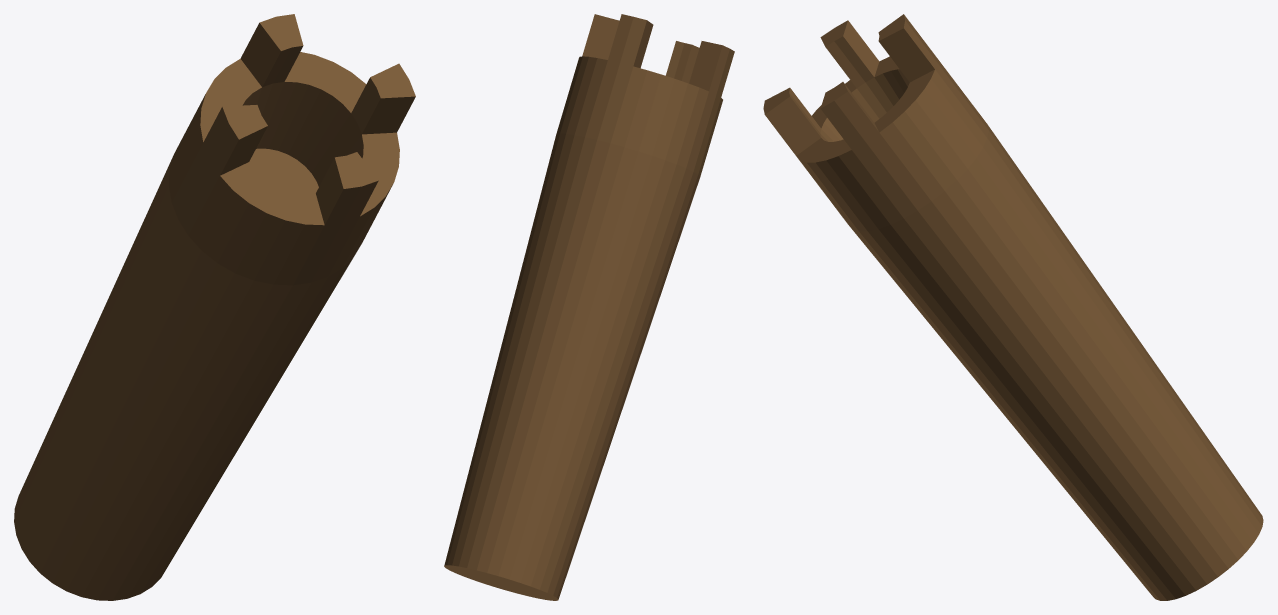
Rendered from Torch_Updated.fbx.
3 views of the same model, side by side, from view 1: azimuth 30°, elevation 25°; view 2: azimuth 150°, elevation 25°; view 3: azimuth 270°, elevation 25° (orthographic). The views are drawn at different scales.
Visible parts, largest first — view 1: Cylinder; view 2: Cylinder; view 3: Cylinder.
Boxes of the visible parts, x1,y1,x2,y2 form: Cylinder: [14, 14, 415, 600]; Cylinder: [444, 14, 734, 600]; Cylinder: [763, 14, 1263, 600].
Size of the model in its own units: 47.75 by 175 by 139.
